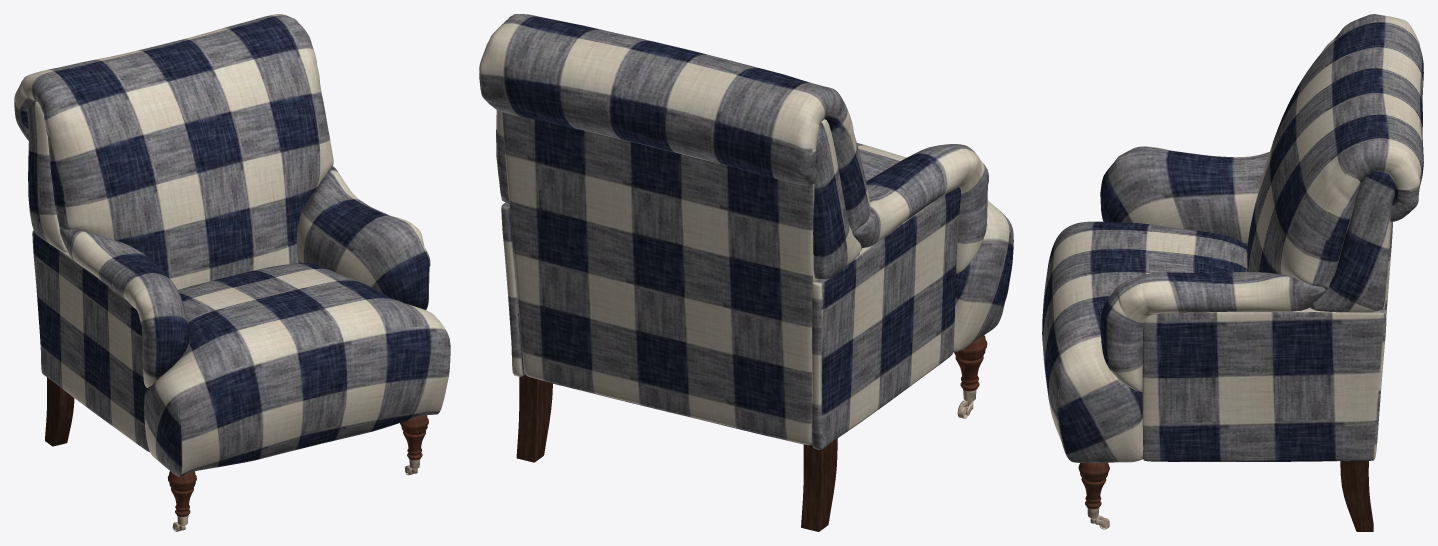
The model's file is abo-B075X543WR.glb.
The picture shows the model from 3 angles, left to right: view 1: azimuth 30°, elevation 25°; view 2: azimuth 150°, elevation 25°; view 3: azimuth 270°, elevation 25°; orthographic projection. The views are drawn at different scales.
Size of the model in its own units: 0.7808 by 0.953 by 0.8479.
1 material, 1 textured.
